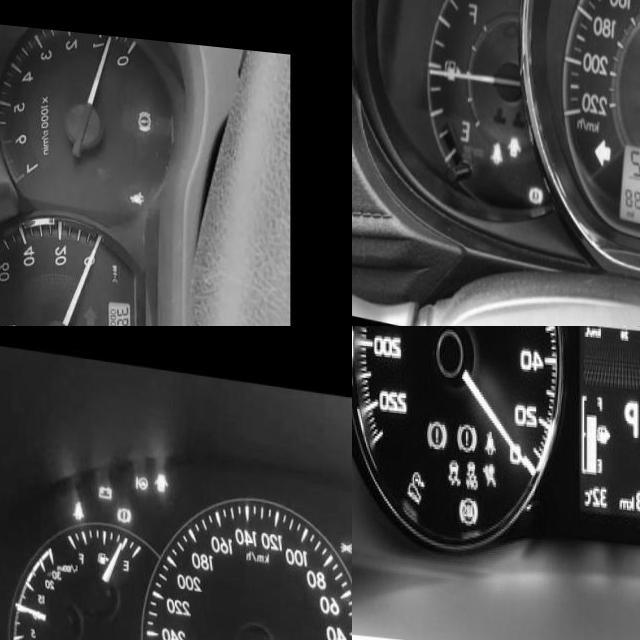Electronic Power Steering: (136, 472, 148, 488)
Seat Belt: (490, 137, 502, 161), (130, 180, 145, 197), (72, 497, 84, 518)
